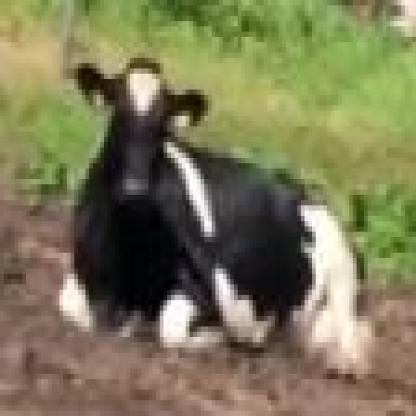cow: (56, 55, 371, 382)
